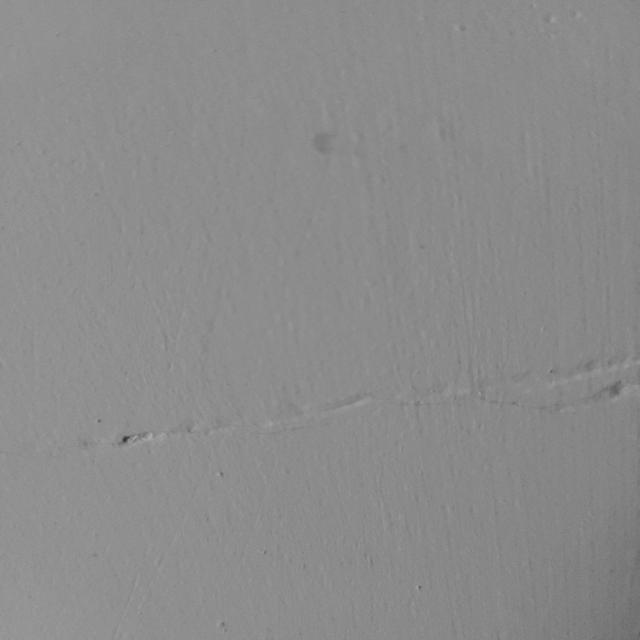rough and patchy surface: (67, 337, 622, 494)
